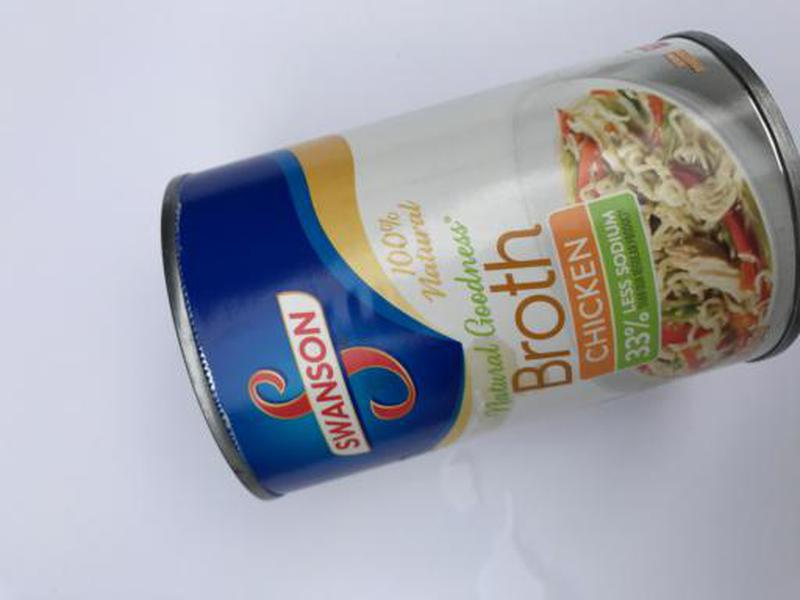can: (155, 28, 800, 504)
